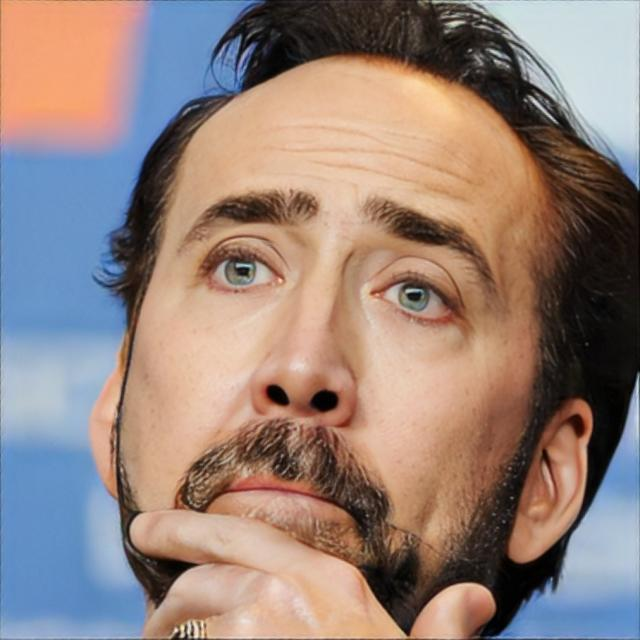surprise: (114, 53, 554, 640)
